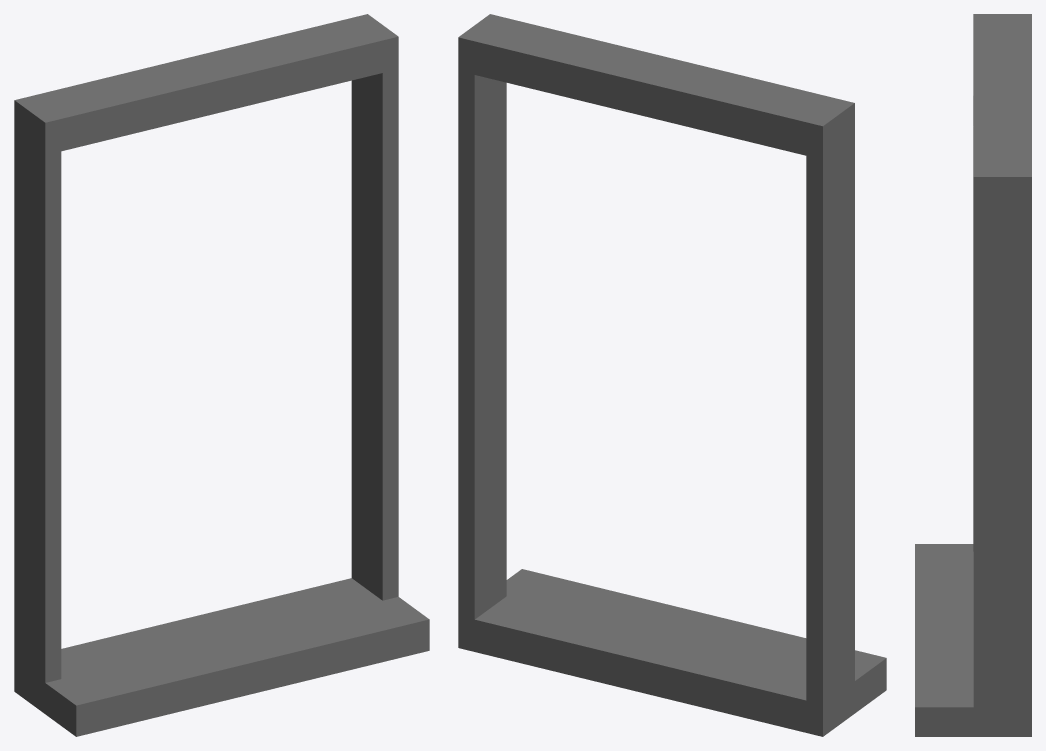
The model's file is Window00.fbx.
3 views of the same model, side by side, from view 1: azimuth 30°, elevation 25°; view 2: azimuth 150°, elevation 25°; view 3: azimuth 270°, elevation 25° (orthographic). The views are drawn at different scales.
Visible parts, largest first — view 1: Window00; view 2: Window00; view 3: Window00.
Part boxes in pixels (<box>): Window00: <box>14,14,429,736</box>; Window00: <box>458,14,886,736</box>; Window00: <box>915,14,1031,736</box>.
Size of the model in its own units: 66 by 106 by 20.
